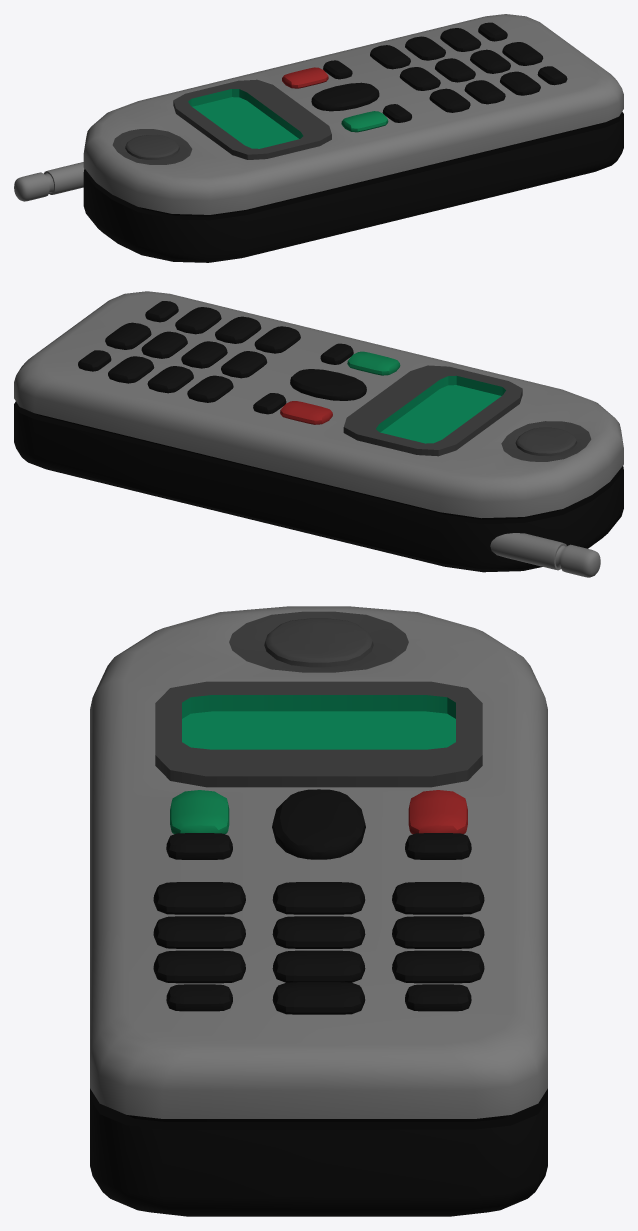
The model's file is Phone_Mobile_02.glb.
3 renders of one model, top to bottom at view 1: azimuth 30°, elevation 25°; view 2: azimuth 150°, elevation 25°; view 3: azimuth 270°, elevation 25°, orthographic. The views are drawn at different scales.
Parts seen in each view (by area): view 1: Mesh_Phone_Mobile_02; view 2: Mesh_Phone_Mobile_02; view 3: Mesh_Phone_Mobile_02.
Part boxes in pixels (<box>): Mesh_Phone_Mobile_02: <box>14,14,623,262</box>; Mesh_Phone_Mobile_02: <box>14,291,623,577</box>; Mesh_Phone_Mobile_02: <box>90,606,547,1216</box>.
Size of the model in its own units: 0.1306 by 0.0219 by 0.05.
1 material, 1 textured.
